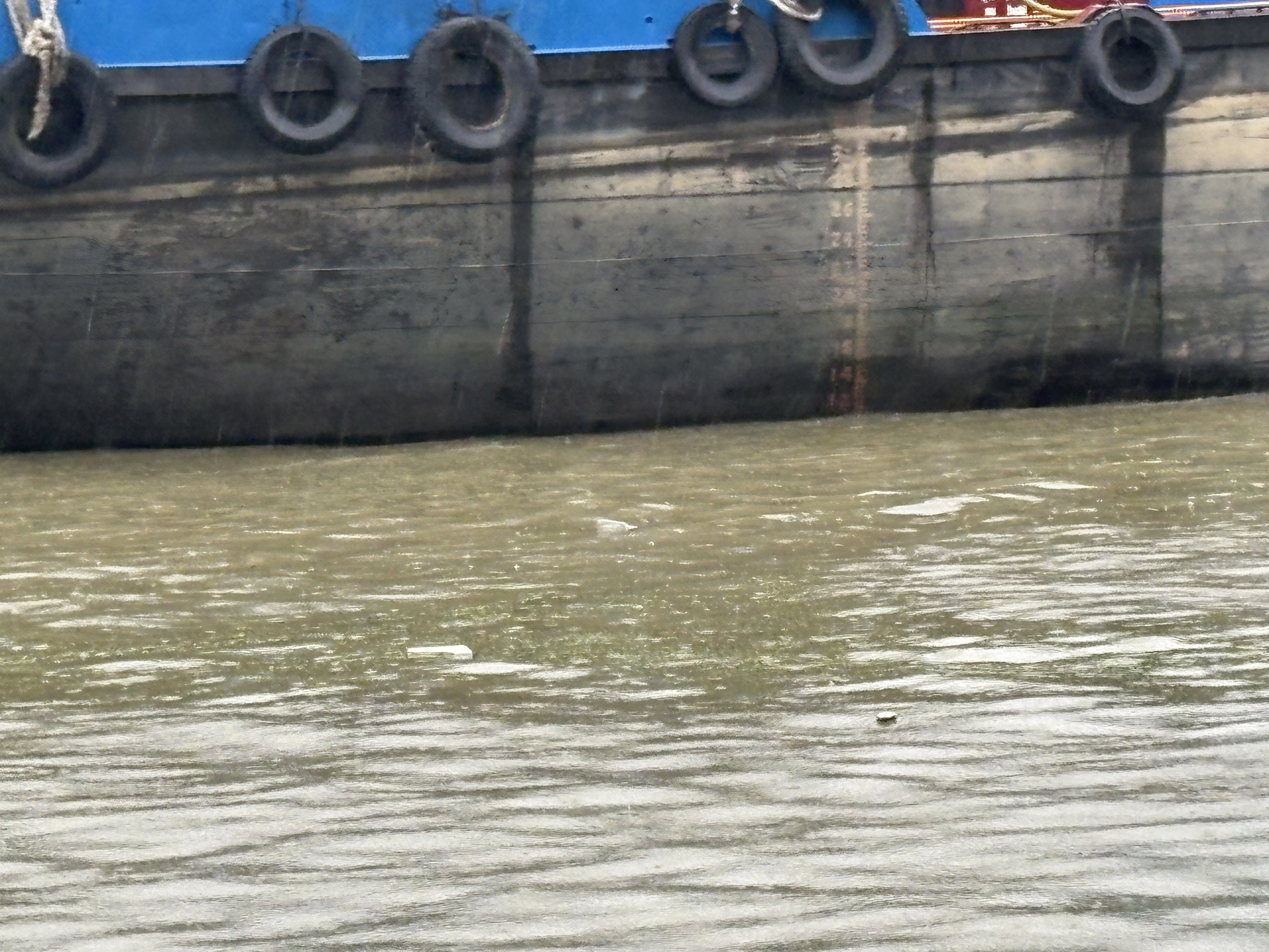Plastic wastes: (407, 643, 476, 666), (594, 519, 636, 532), (872, 709, 897, 722)
